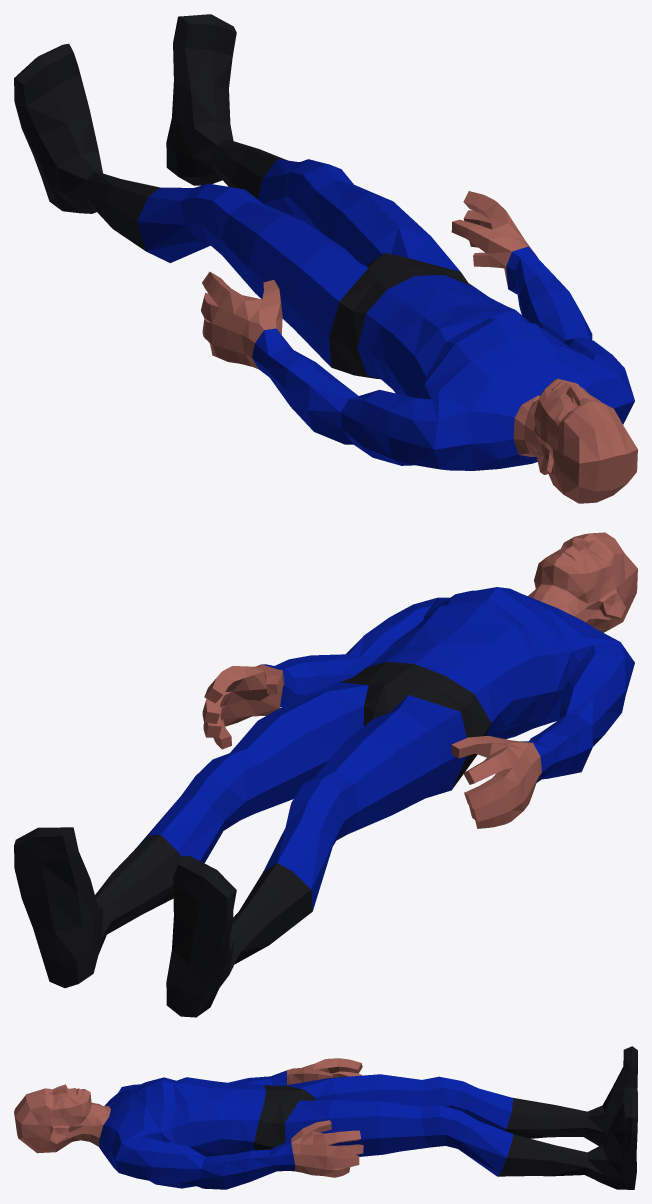
Rendered from CaptainCodeaStand.obj.
3 views of the same model, one above another, from view 1: azimuth 30°, elevation 25°; view 2: azimuth 150°, elevation 25°; view 3: azimuth 270°, elevation 25° (orthographic). The views are drawn at different scales.
Parts seen in each view (by area): view 1: Low_Poly_Characte.000_Mesh.001; view 2: Low_Poly_Characte.000_Mesh.001; view 3: Low_Poly_Characte.000_Mesh.001.
Boxes of the visible parts, x1=… form: Low_Poly_Characte.000_Mesh.001: x1=14, y1=14, x2=637, y2=503; Low_Poly_Characte.000_Mesh.001: x1=14, y1=532, x2=637, y2=1017; Low_Poly_Characte.000_Mesh.001: x1=14, y1=1046, x2=637, y2=1189.
Bounding box in the file's own units: 42.78 × 21.13 × 118.
